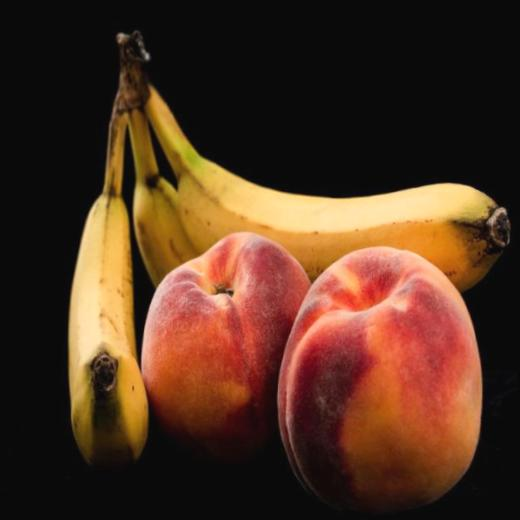Banana: (109, 98, 502, 286), (62, 81, 160, 470), (123, 111, 202, 290)
